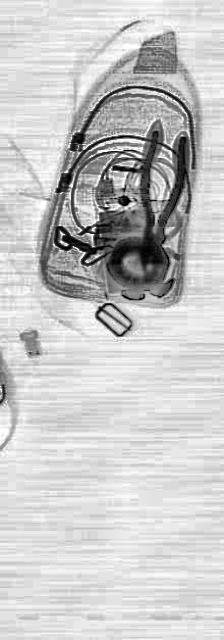Pliers: (130, 105, 188, 282)
